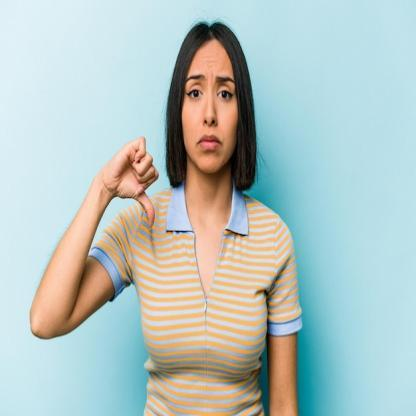thumb_down: (105, 134, 164, 230)
